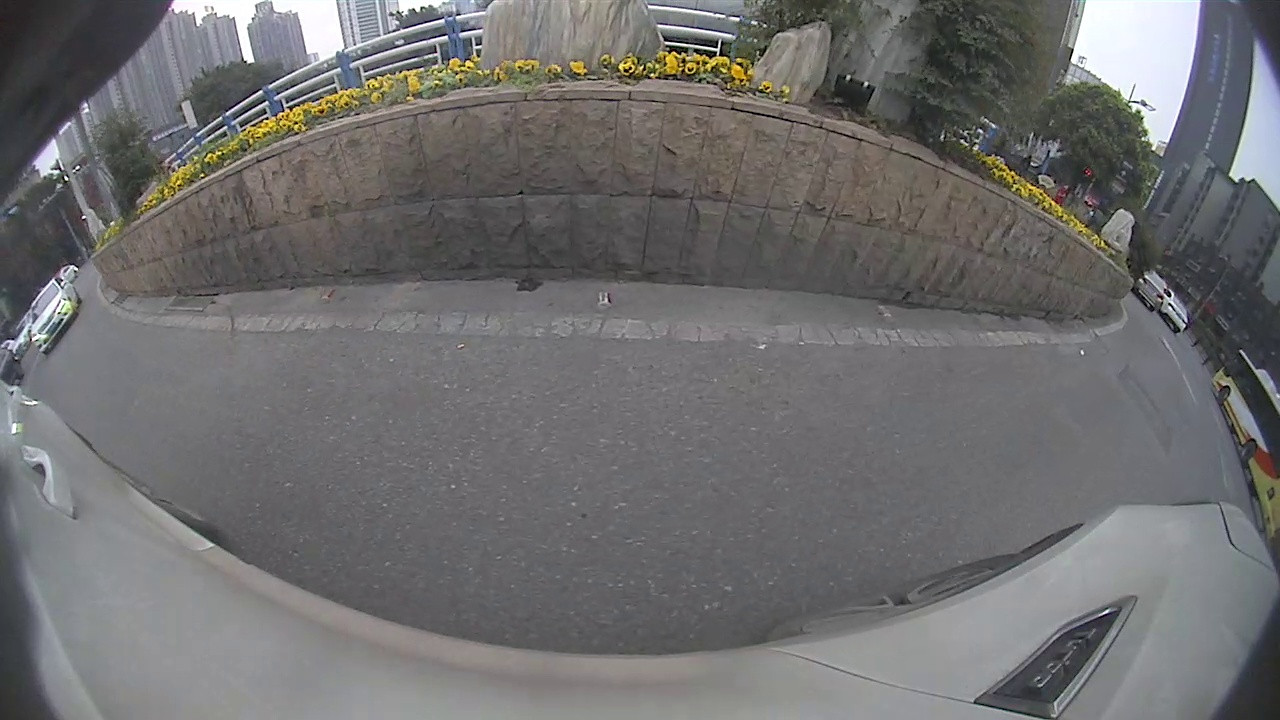bus: (1212, 344, 1278, 542)
car: (28, 278, 84, 355)
front: (1214, 387, 1231, 404)
rear: (1237, 440, 1259, 466)
